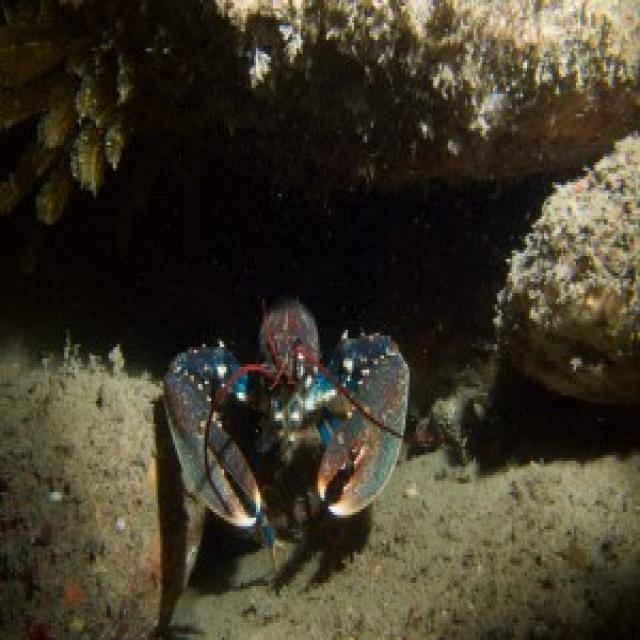lobsters: (79, 288, 536, 640)
